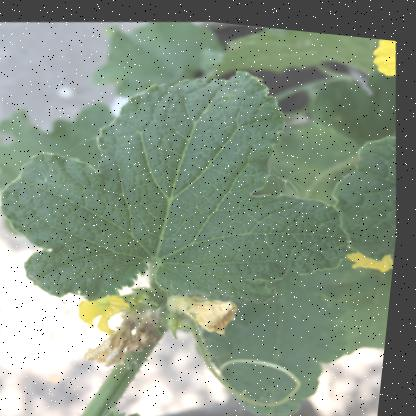Normal: (0, 32, 372, 324)
